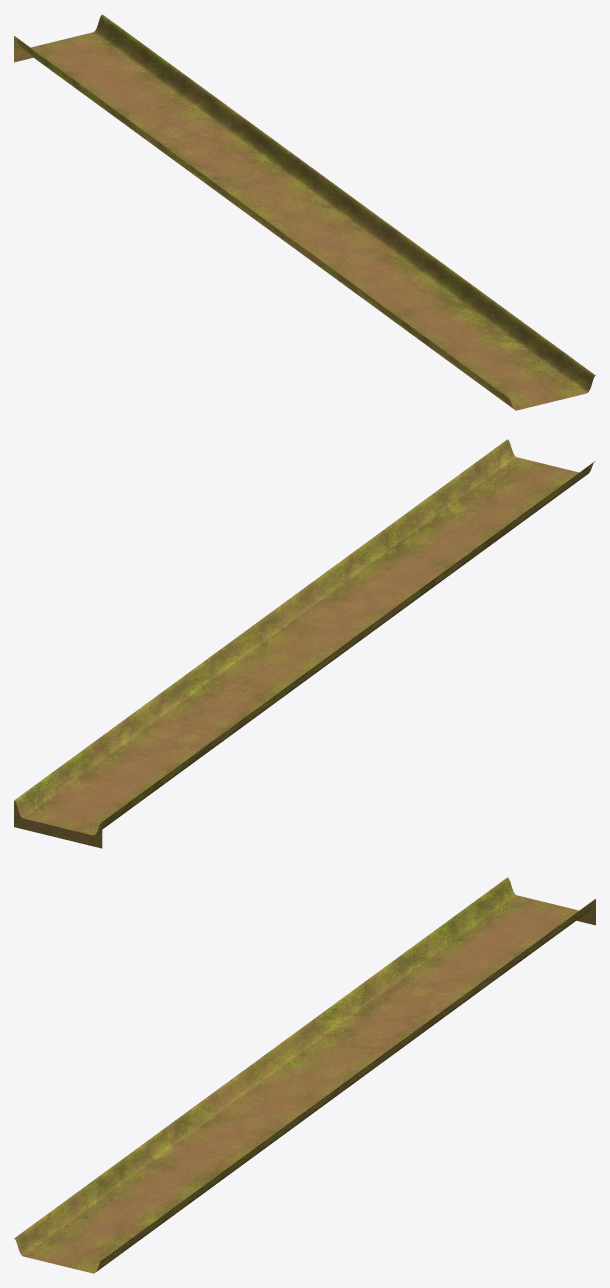
File: michi_m100.fbx
3 views of the same model, one above another, from view 1: azimuth 30°, elevation 25°; view 2: azimuth 150°, elevation 25°; view 3: azimuth 330°, elevation 25° (orthographic).
Visible parts, largest first — view 1: m100; view 2: m100; view 3: m100.
Boxes of the visible parts, bbox=[...] form: m100: bbox=[14, 14, 595, 410]; m100: bbox=[14, 439, 595, 848]; m100: bbox=[14, 877, 595, 1273].
Bounding box in the file's own units: 1035 × 297 × 10000.
1 material, 1 textured.
